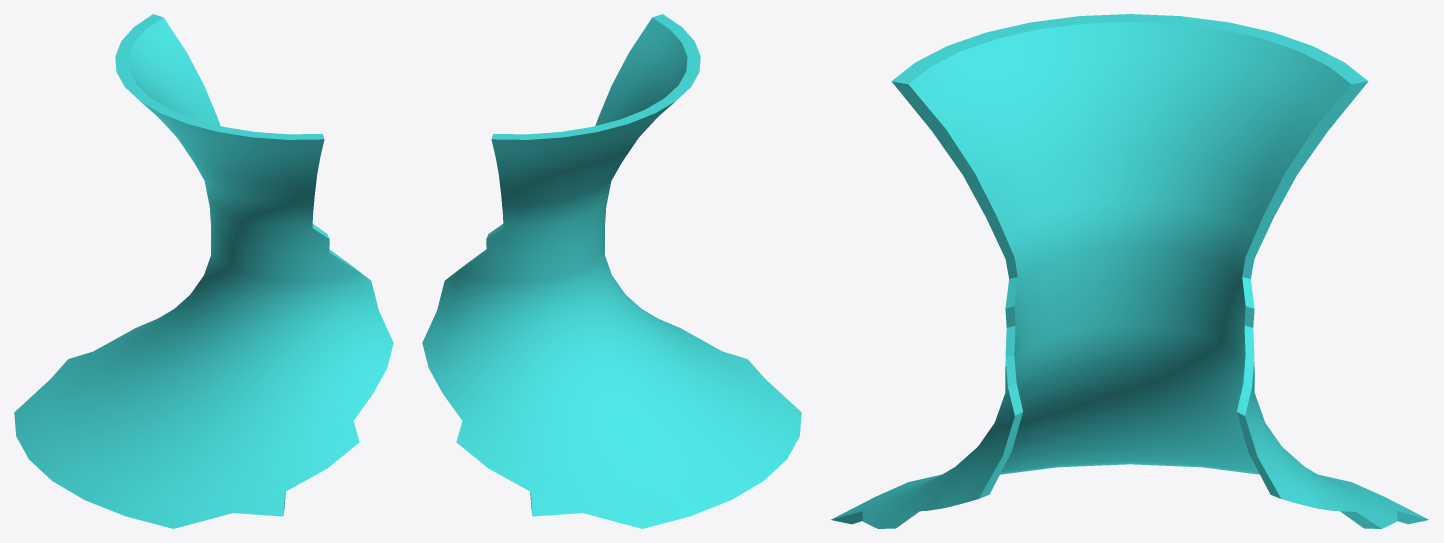
File: VaseBroken6.fbx
3 renders of one model, left to right at view 1: azimuth 30°, elevation 25°; view 2: azimuth 150°, elevation 25°; view 3: azimuth 270°, elevation 25°, orthographic. The views are drawn at different scales.
Parts seen in each view (by area): view 1: splinterUp2; view 2: splinterUp2; view 3: splinterUp2.
Part boxes in pixels (x1=…): splinterUp2: x1=14, y1=14, x2=393, y2=528; splinterUp2: x1=422, y1=14, x2=801, y2=528; splinterUp2: x1=831, y1=14, x2=1428, y2=528.
Bounding box in the file's own units: 13.65 × 16.29 × 17.71.
